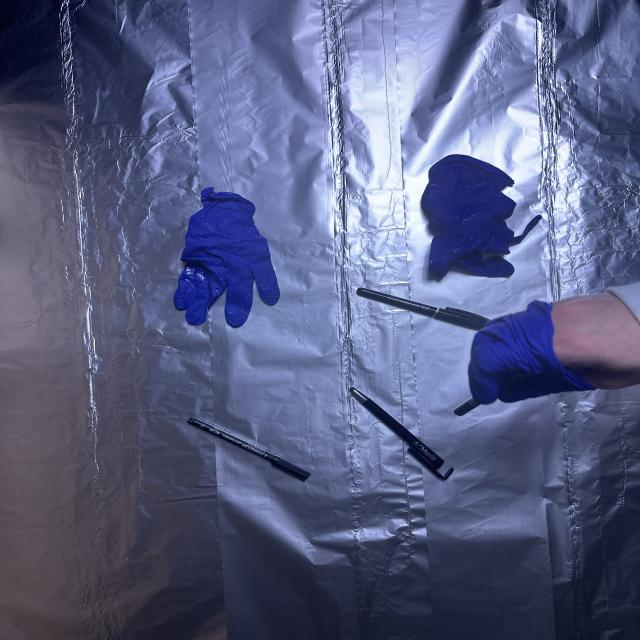glove_partial: (466, 289, 639, 404)
